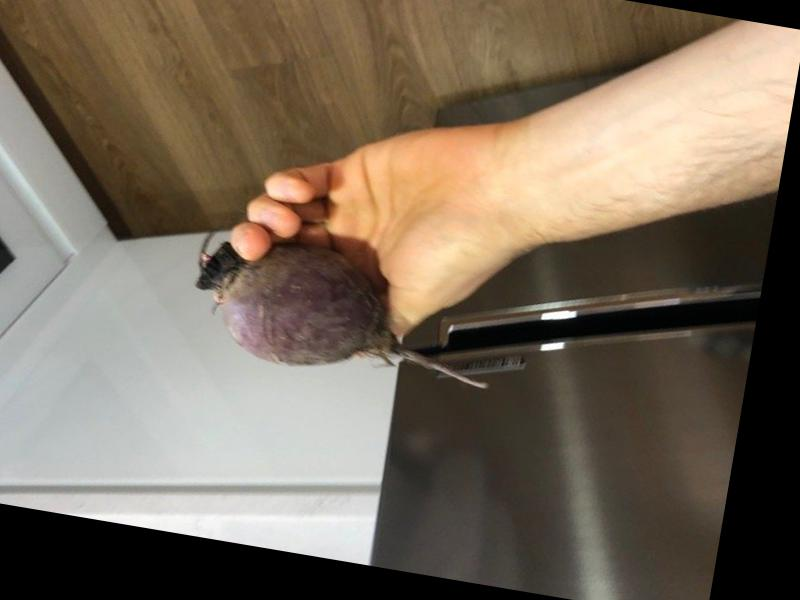Beet: (182, 228, 504, 398)
